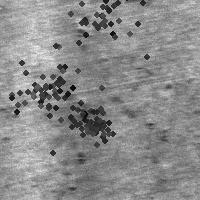rolled-in_scale: (0, 37, 101, 147), (45, 0, 165, 80), (102, 67, 176, 140), (49, 105, 94, 186), (68, 97, 120, 149), (67, 18, 111, 78)
